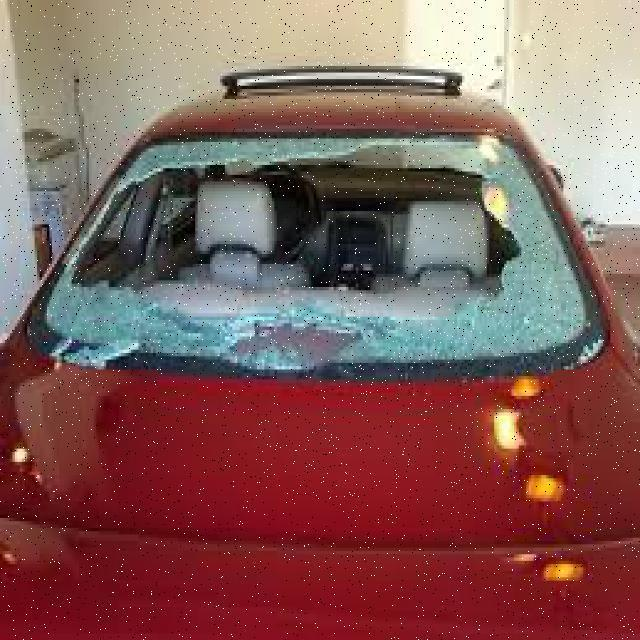Rear-windscreen-Damage: (17, 116, 610, 410)
